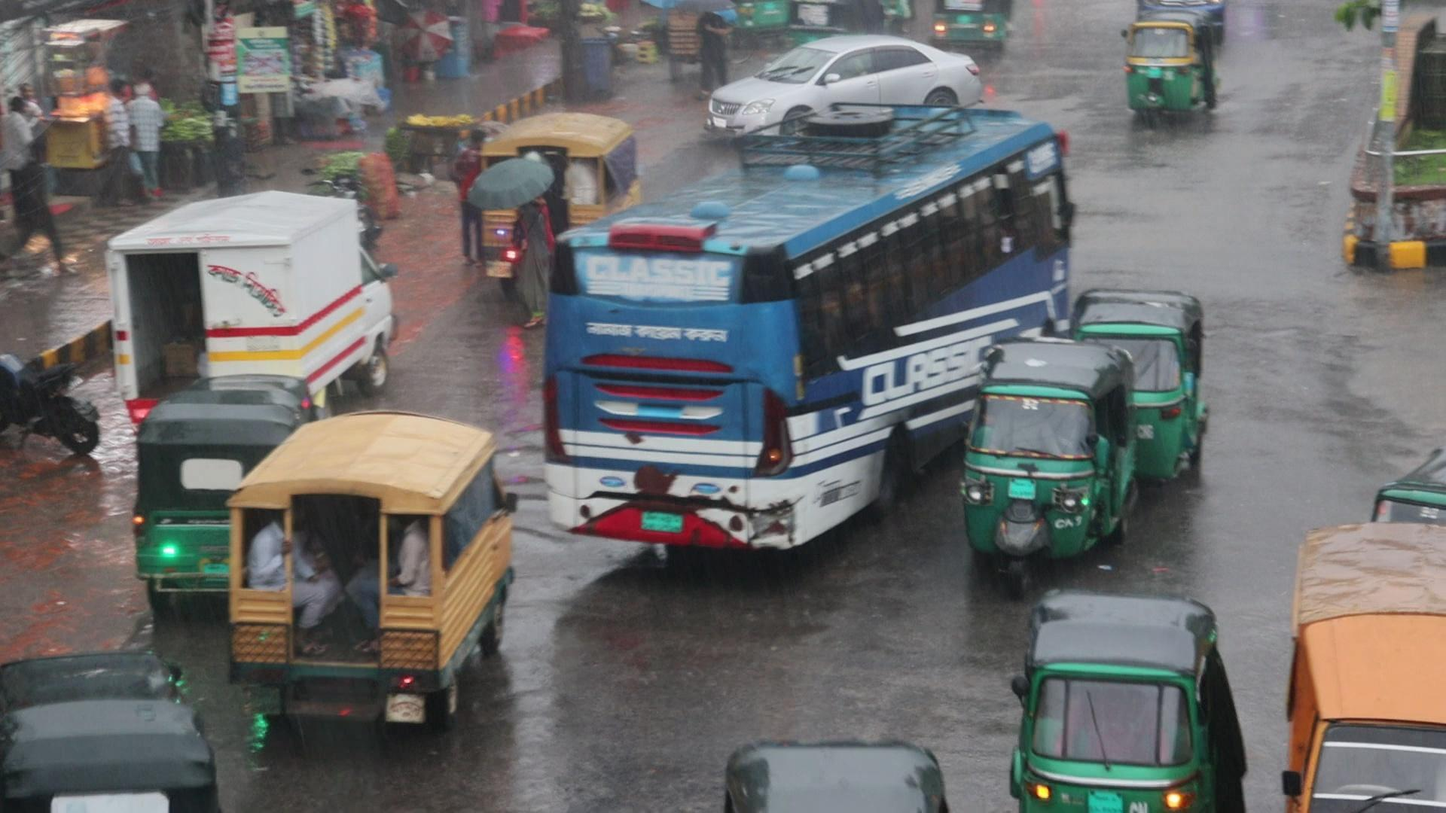Bus: (542, 97, 1078, 523)
Car: (705, 31, 984, 113)
Truck: (224, 410, 517, 726), (476, 110, 635, 238)
